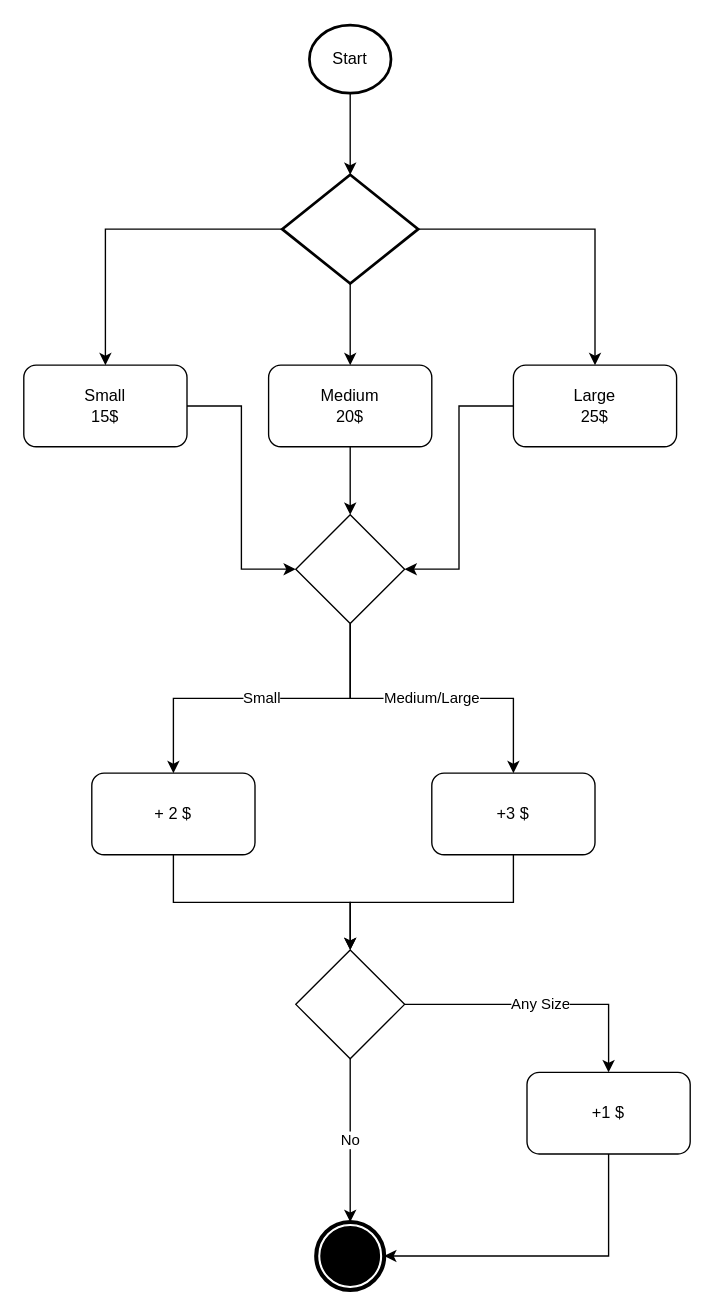
The diagram is 714 pixels wide and 1314 high, and some of its shapes have lost their labels. The shapes that lost their labels are listed below. From the top down, each one's box as (x1, y1, x2, y2) in pixels, then its label:
(280, 173, 419, 284): Pizza Type
(294, 513, 405, 624): ¿Add Peperoni?
(294, 949, 405, 1059): ¿Add extra Cheese?
